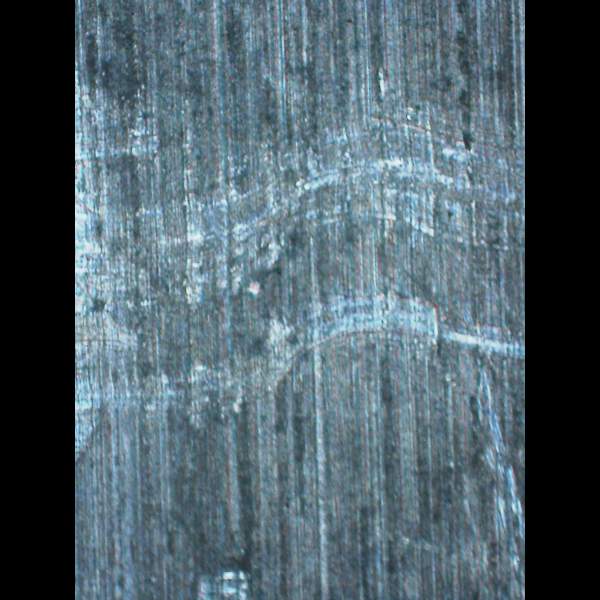d: (75, 70, 525, 455)
